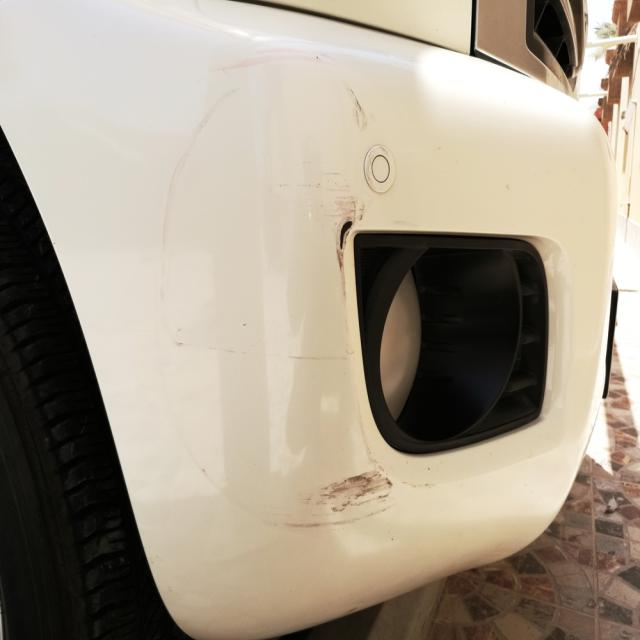scratch: (153, 52, 393, 542), (316, 83, 373, 280)
